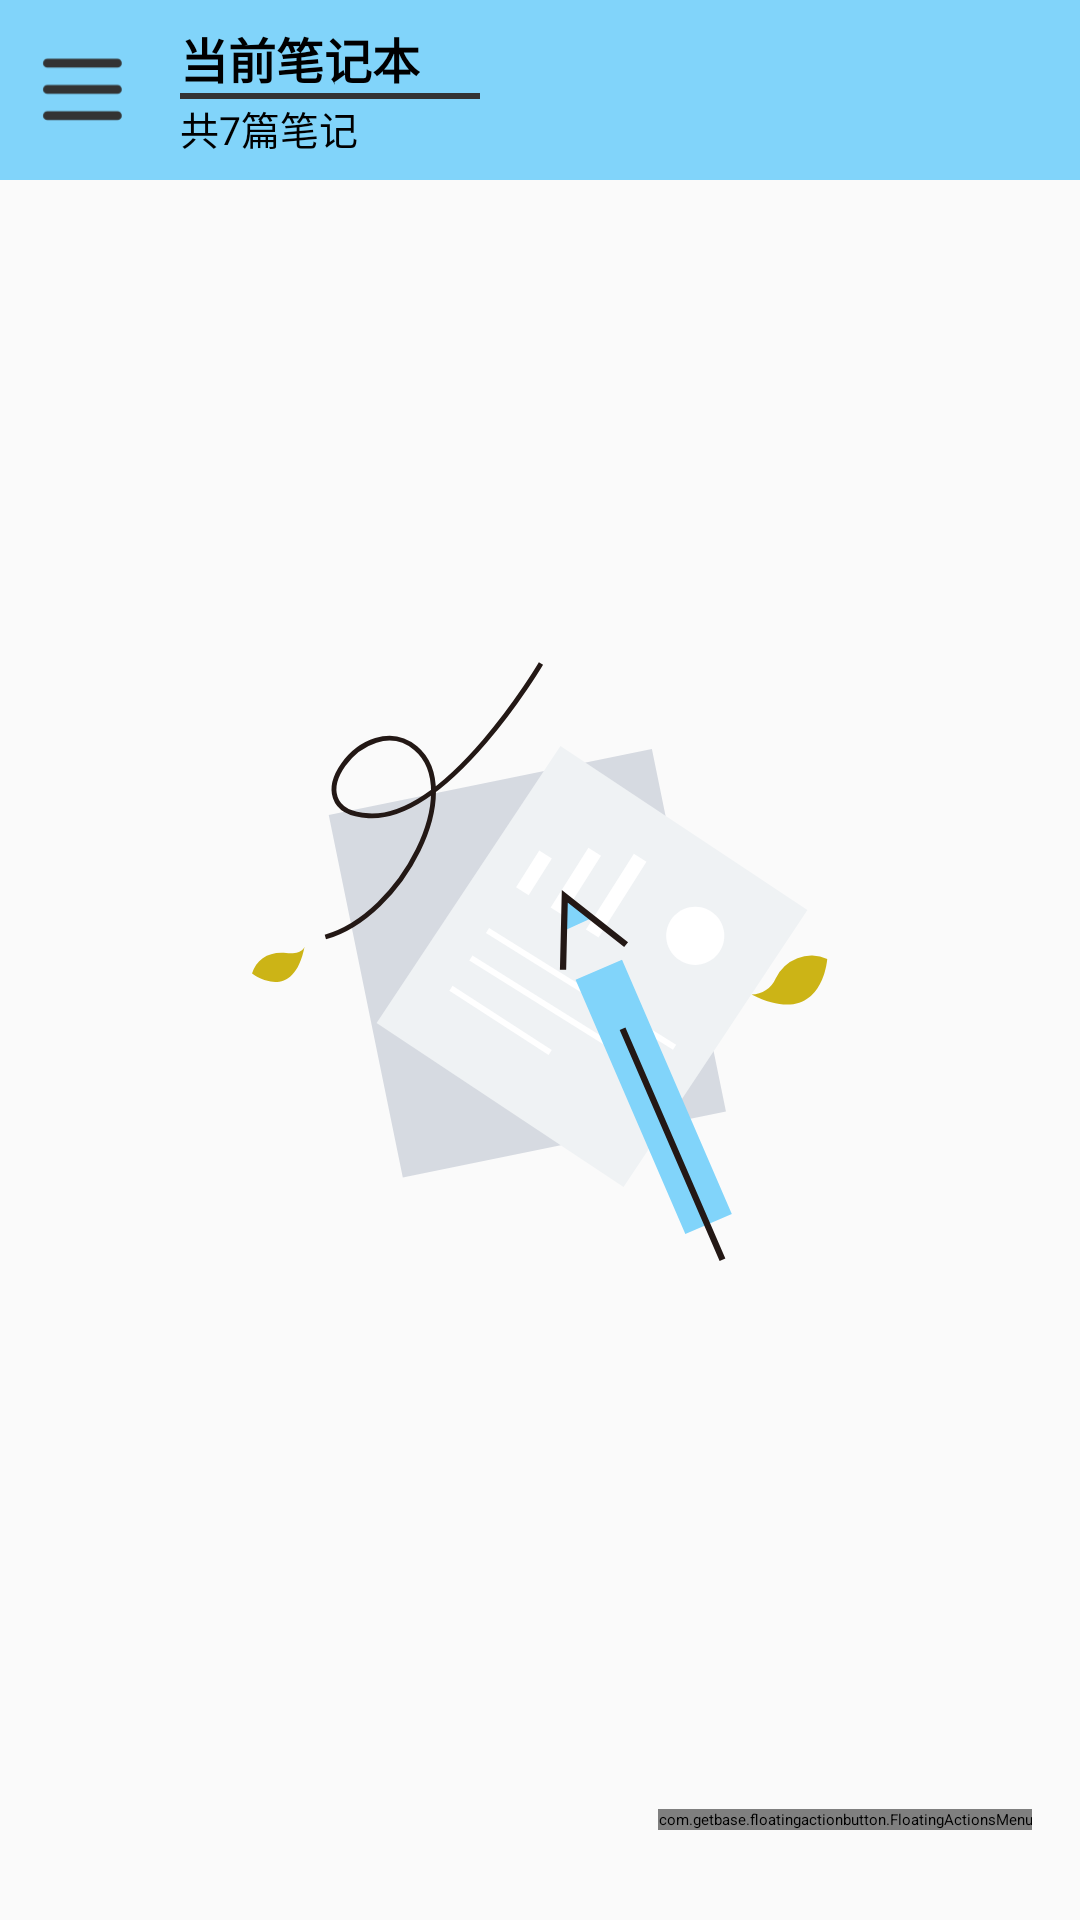

Where icons sit on this 1080 × 1920 app screen, as rect(x1, y1, x2, y2):
hamburger: rect(43, 58, 122, 121)
